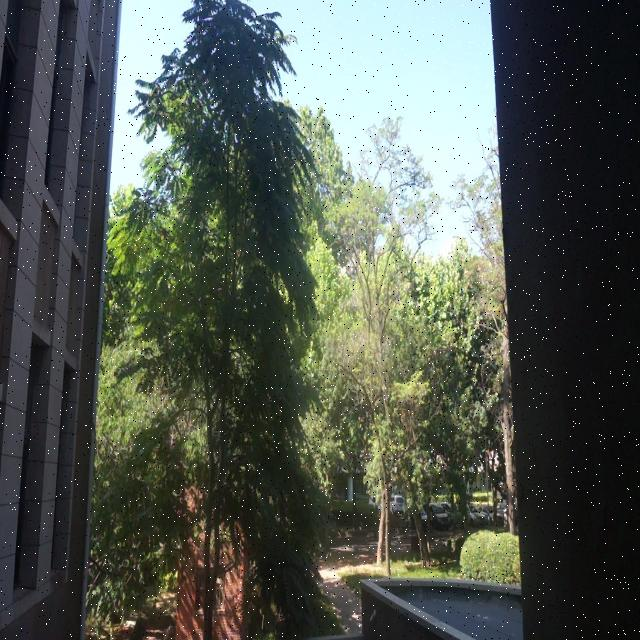UAV: (156, 228, 174, 241)
